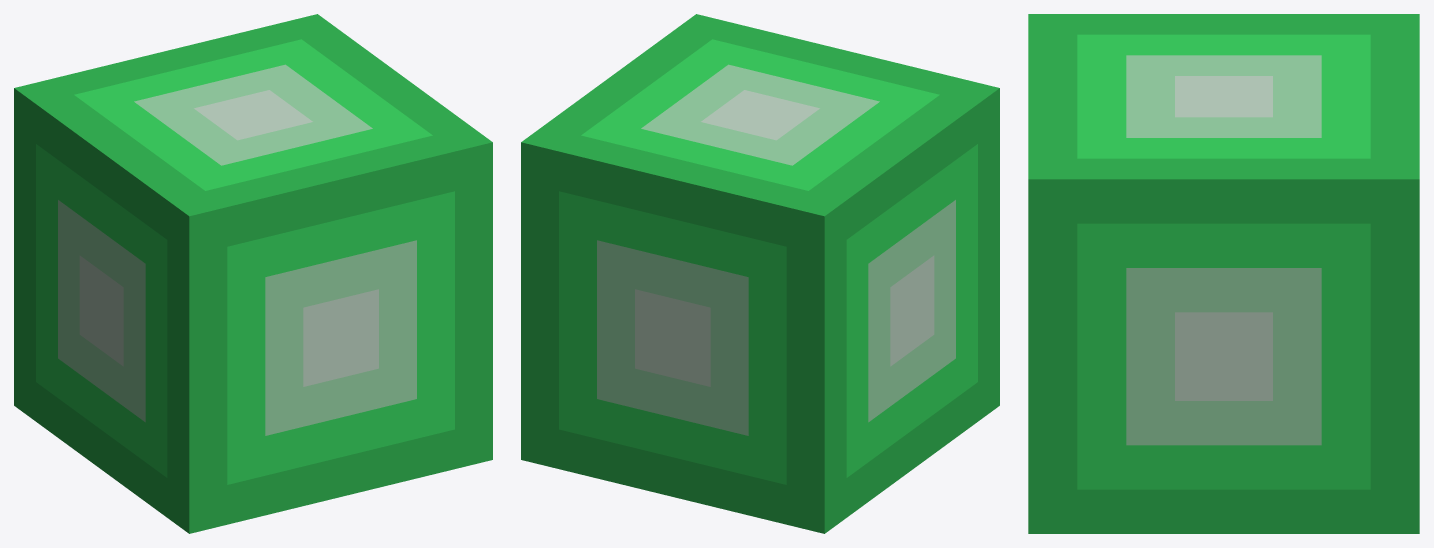
Rendered from Green Gem.fbx.
3 renders of one model, left to right at view 1: azimuth 30°, elevation 25°; view 2: azimuth 150°, elevation 25°; view 3: azimuth 270°, elevation 25°, orthographic. The views are drawn at different scales.
Visible parts, largest first — view 1: Green Gem; view 2: Green Gem; view 3: Green Gem.
Part boxes in pixels (bbox=[...]): Green Gem: bbox=[14, 14, 492, 533]; Green Gem: bbox=[521, 14, 999, 533]; Green Gem: bbox=[1028, 14, 1419, 533].
Bounding box in the file's own units: 0.16 × 0.16 × 0.16.
1 material, 1 textured.
